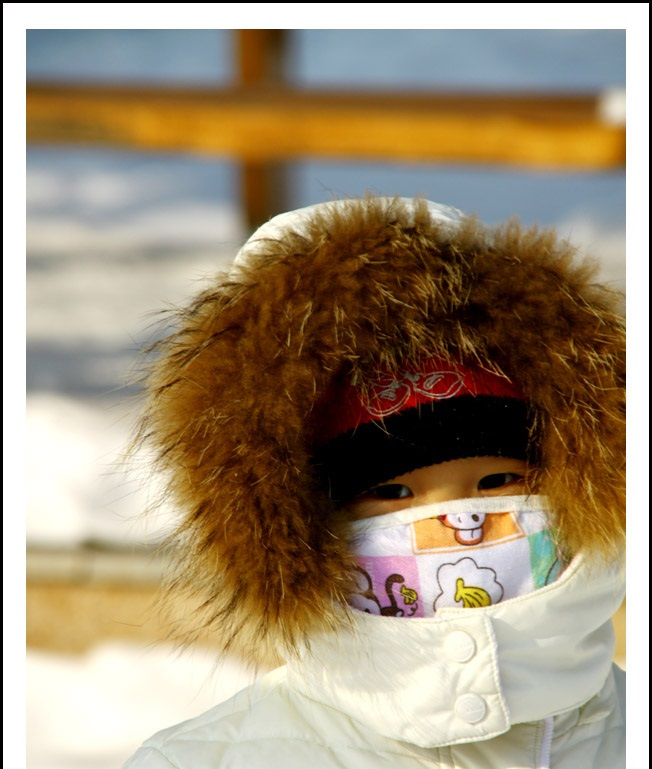face_mask: (330, 466, 583, 621)
